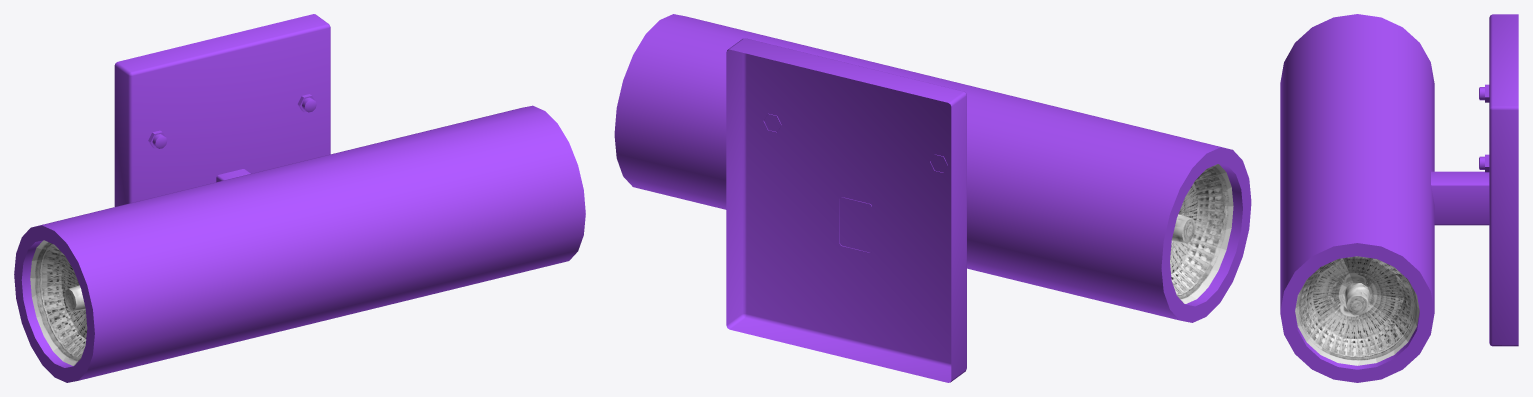
Rendered from LightWall04_3.FBX.
3 views of the same model, side by side, from view 1: azimuth 30°, elevation 25°; view 2: azimuth 150°, elevation 25°; view 3: azimuth 270°, elevation 25° (orthographic). The views are drawn at different scales.
Parts seen in each view (by area): view 1: LightWall04_3; view 2: LightWall04_3; view 3: LightWall04_3.
Part boxes in pixels (x1,y1,x2,y2): LightWall04_3: [14, 14, 585, 382]; LightWall04_3: [614, 14, 1251, 382]; LightWall04_3: [1280, 14, 1518, 382].
Size of the model in its own units: 31.85 by 15.58 by 14.02.
